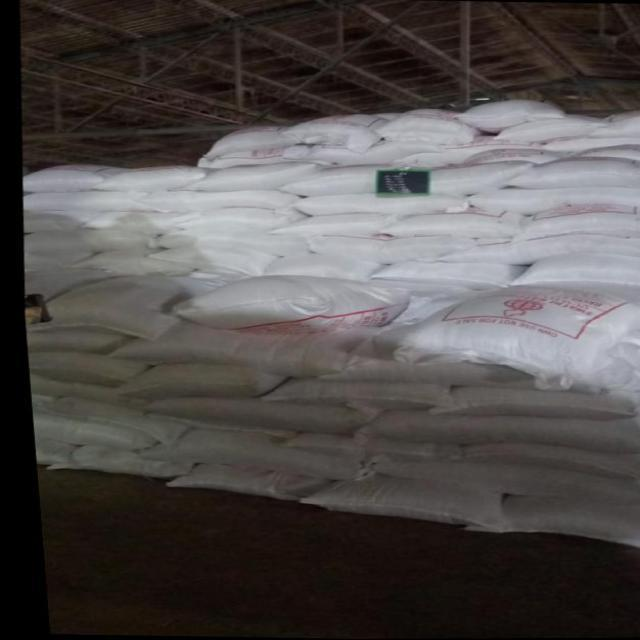gunny_bag: (386, 285, 640, 387), (354, 395, 640, 452), (167, 274, 414, 331), (20, 273, 215, 338), (113, 325, 374, 373), (323, 355, 633, 394), (363, 462, 640, 504), (130, 429, 359, 479), (300, 476, 496, 528), (473, 498, 640, 549), (135, 396, 366, 431), (33, 396, 183, 446), (455, 445, 640, 485), (437, 233, 640, 263), (301, 235, 473, 270), (251, 378, 449, 407), (427, 388, 625, 417), (160, 465, 324, 500), (114, 363, 276, 398), (275, 433, 455, 461), (397, 134, 538, 169), (469, 187, 640, 215), (42, 445, 185, 478), (26, 413, 153, 449), (175, 160, 319, 191), (276, 113, 384, 153), (23, 374, 143, 410), (289, 193, 469, 216), (376, 208, 514, 238), (517, 206, 640, 239), (503, 158, 640, 187), (283, 140, 440, 165), (368, 264, 524, 289), (22, 353, 141, 385), (460, 99, 565, 135), (148, 227, 297, 252), (507, 259, 640, 287), (376, 109, 481, 144), (144, 249, 274, 276), (280, 163, 379, 197), (260, 254, 382, 281), (492, 114, 608, 142), (20, 230, 151, 254), (93, 165, 212, 191), (141, 190, 291, 210), (202, 126, 289, 160), (20, 164, 124, 192), (60, 249, 186, 272), (267, 214, 397, 235), (20, 191, 147, 211), (173, 208, 290, 229), (21, 329, 127, 350), (84, 213, 186, 233), (195, 147, 284, 167), (20, 211, 95, 232), (541, 137, 640, 152), (585, 110, 640, 136), (469, 149, 560, 163), (27, 437, 74, 464), (589, 147, 640, 164)
